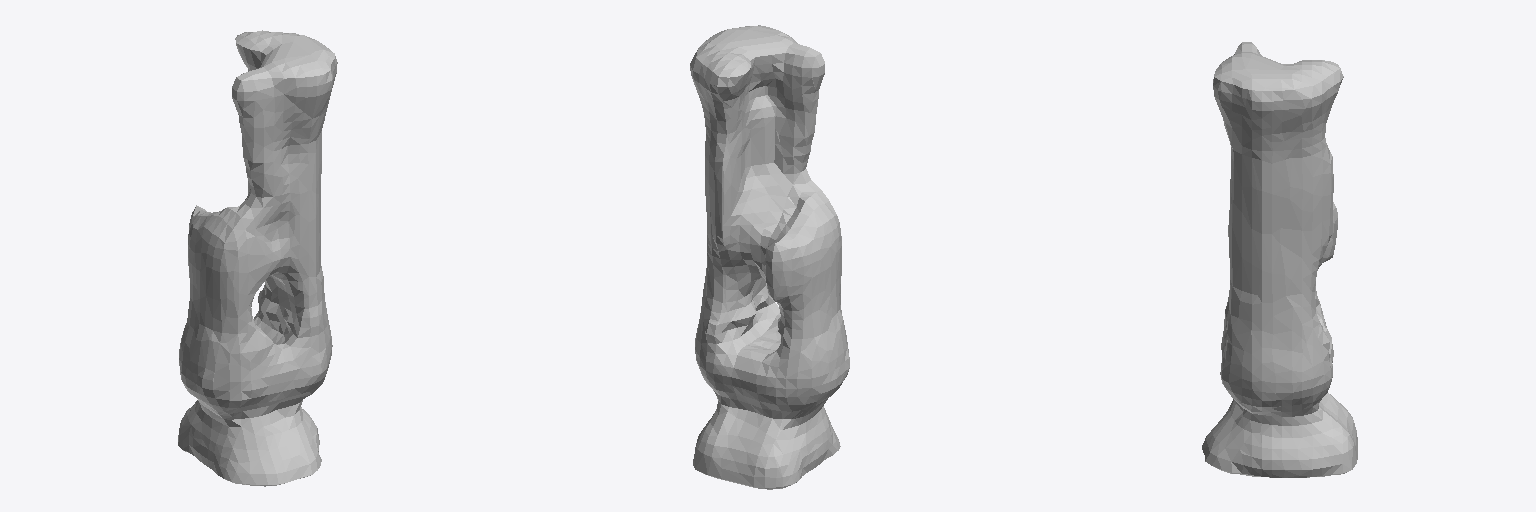
3 views of the same model, side by side, from view 1: azimuth 30°, elevation 25°; view 2: azimuth 150°, elevation 25°; view 3: azimuth 270°, elevation 25° (orthographic).
Parts seen in each view (by area): view 1: Liquid_Domain; view 2: Liquid_Domain; view 3: Liquid_Domain.
Part boxes in pixels (x1,y1,x2,y2): Liquid_Domain: (178,30,337,486); Liquid_Domain: (690,25,849,489); Liquid_Domain: (1202,42,1357,477).
Size of the model in its own units: 38.35 by 108 by 37.22.